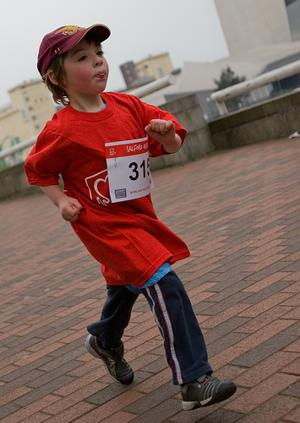person: (23, 19, 237, 412)
